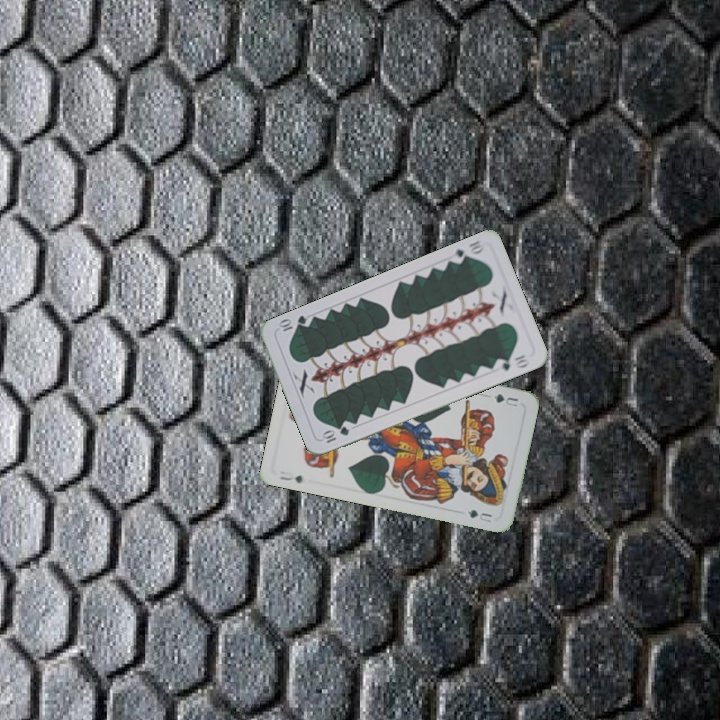G10: (447, 237, 487, 266), (318, 422, 352, 446)
GU: (490, 390, 521, 409), (275, 471, 305, 486)
